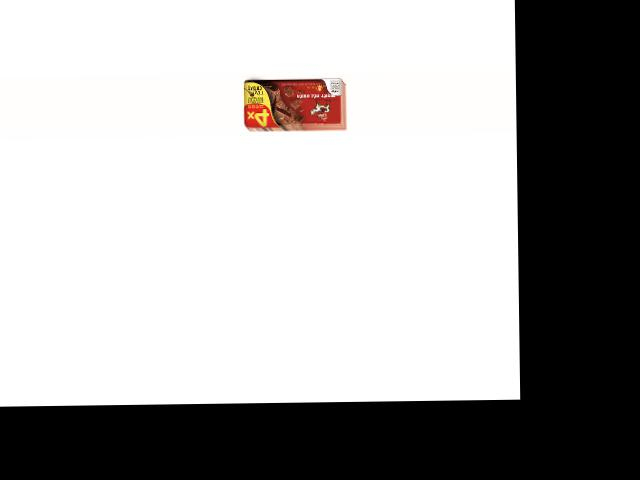chocolate: (242, 75, 344, 131)
